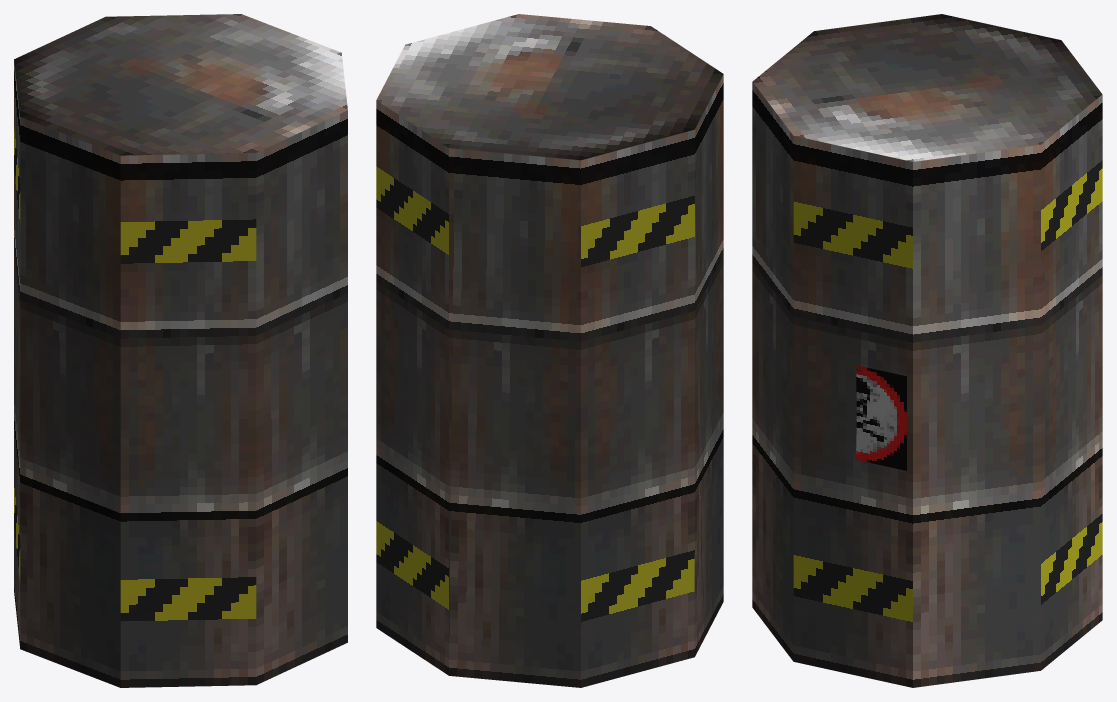
The model's file is primary_032.glb.
3 renders of one model, left to right at view 1: azimuth 30°, elevation 25°; view 2: azimuth 150°, elevation 25°; view 3: azimuth 270°, elevation 25°, orthographic.
Visible parts, largest first — view 1: Object; view 2: Object; view 3: Object.
Part boxes in pixels (x1=…): Object: x1=14, y1=14, x2=347, y2=687; Object: x1=376, y1=14, x2=723, y2=687; Object: x1=752, y1=14, x2=1102, y2=687.
Bounding box in the file's own units: 1.02 × 1.69 × 1.02.
Materials: 9 (9 with a texture image).
